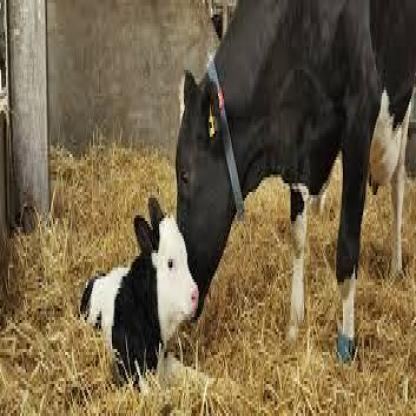cow: (175, 1, 416, 365), (80, 195, 216, 396)
